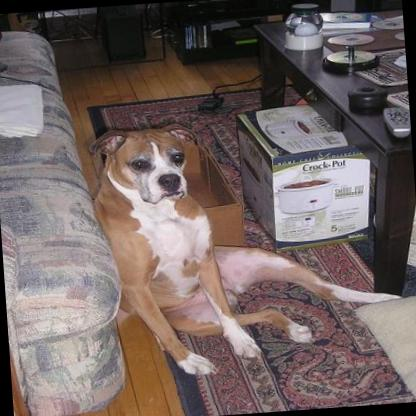boxer: (82, 107, 408, 382)
